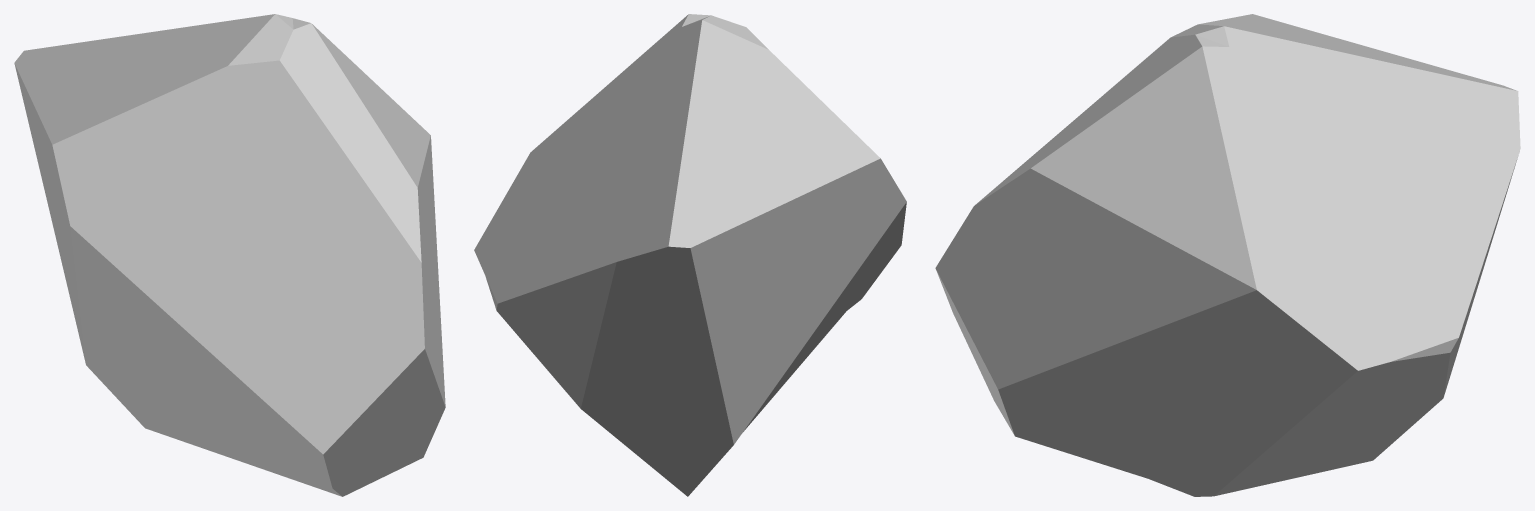
Rendered from Wh_Rock_Small_05.fbx.
3 views of the same model, side by side, from view 1: azimuth 30°, elevation 25°; view 2: azimuth 150°, elevation 25°; view 3: azimuth 270°, elevation 25° (orthographic). The views are drawn at different scales.
Visible parts, largest first — view 1: LowPolyRock.019; view 2: LowPolyRock.019; view 3: LowPolyRock.019.
Boxes of the visible parts, box(x1,y1,x2,y2) form: LowPolyRock.019: box(14, 14, 445, 496); LowPolyRock.019: box(474, 14, 906, 496); LowPolyRock.019: box(935, 14, 1520, 496).
Size of the model in its own units: 69.74 by 75.99 by 87.04.
